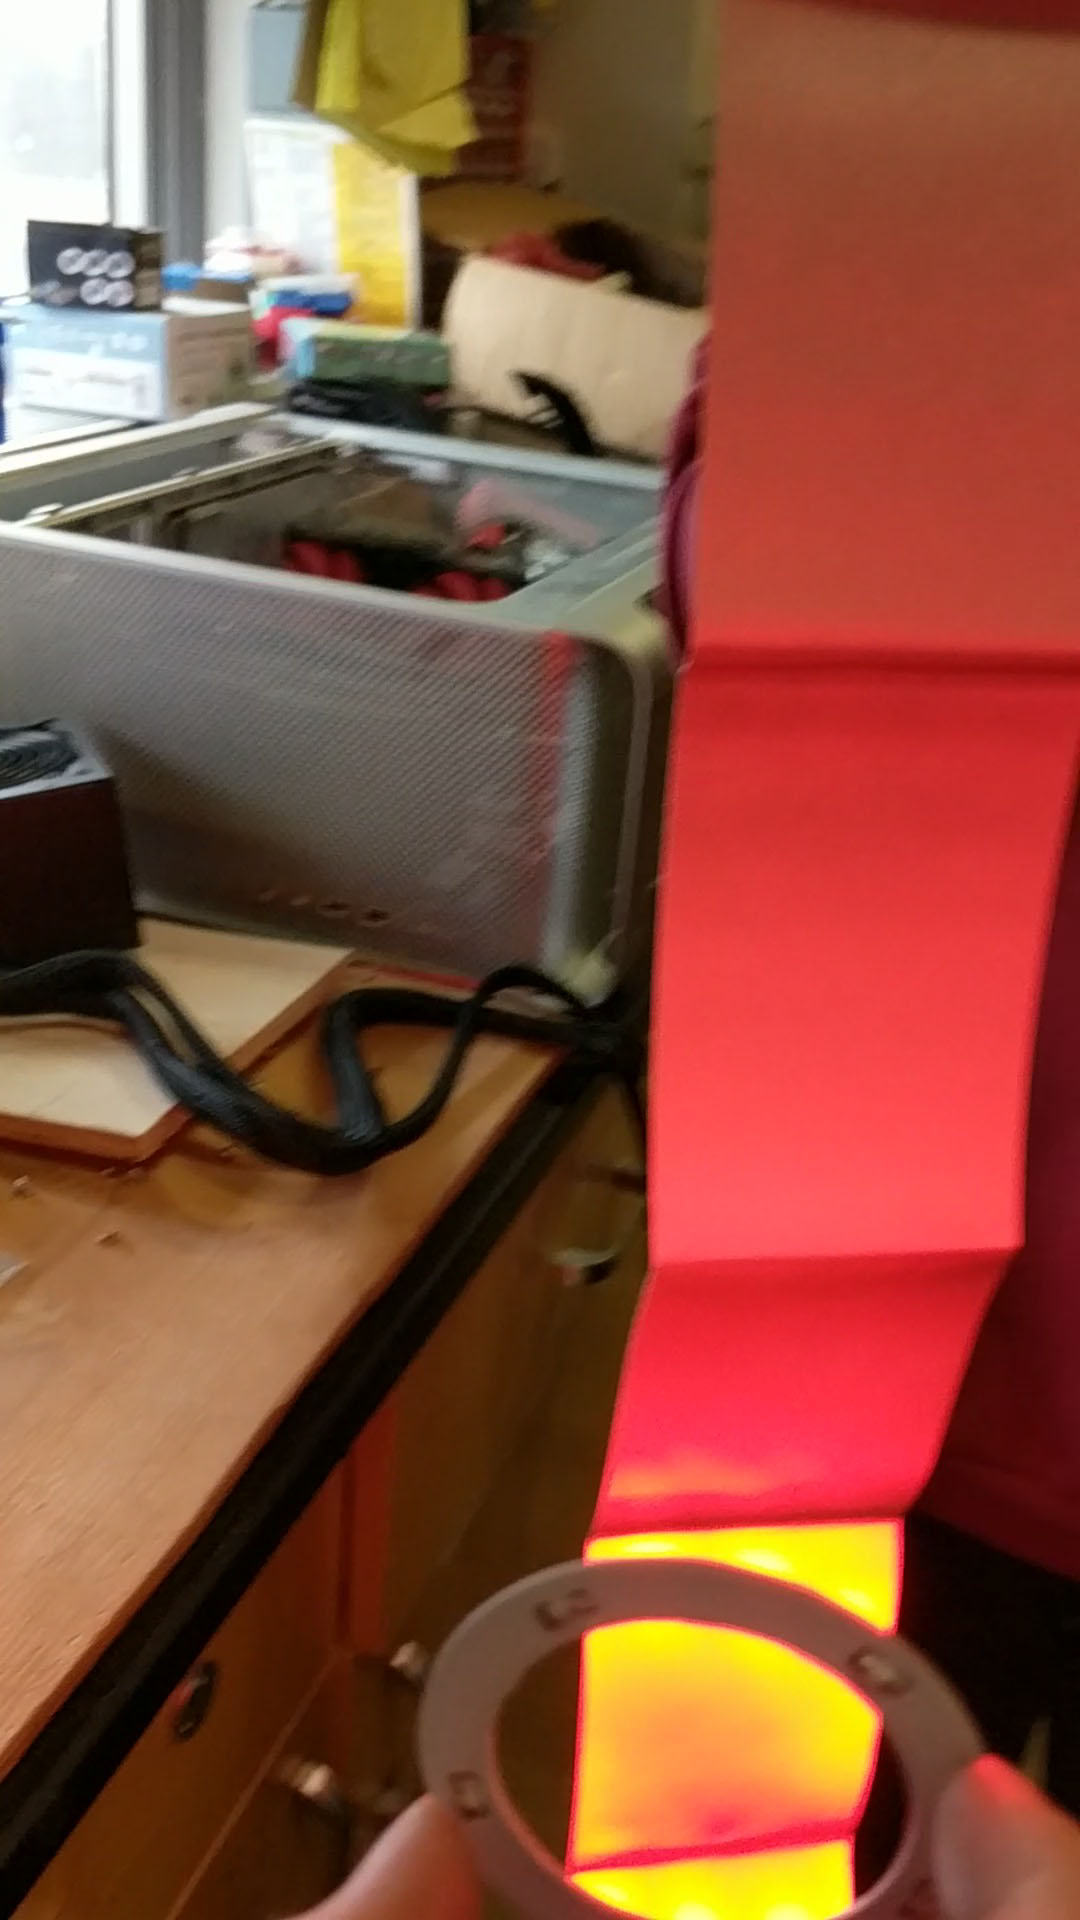gear: (584, 0, 1080, 1920)
